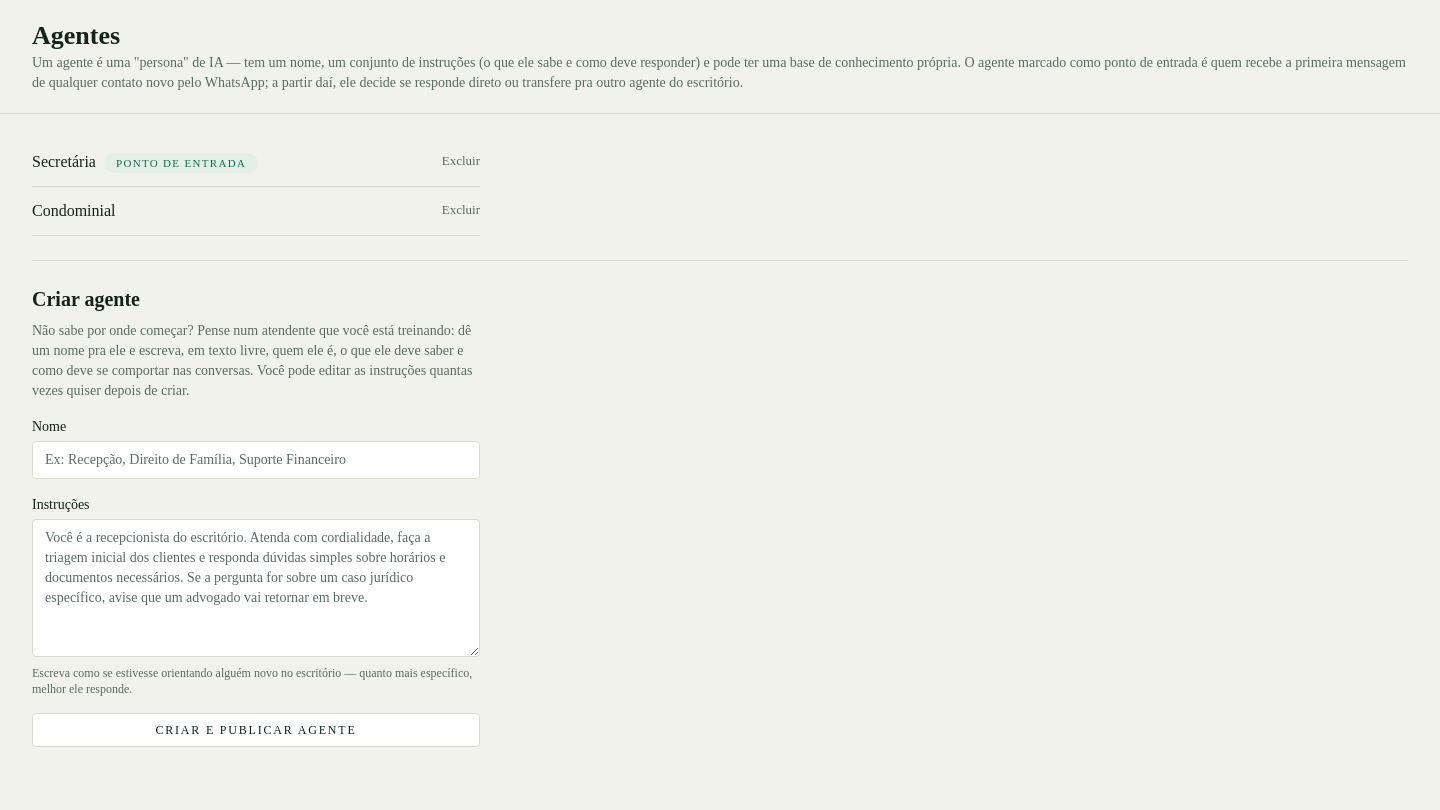
Test: AgentsPanel › exclui um agente após confirmação
This screenshot has width=1440, height=810.
Expected: the link "Secretária" is shown, [32,152,96,170]
Click the button "Excluir" in the row of "Secretária": (461, 161) [442,153,480,170]
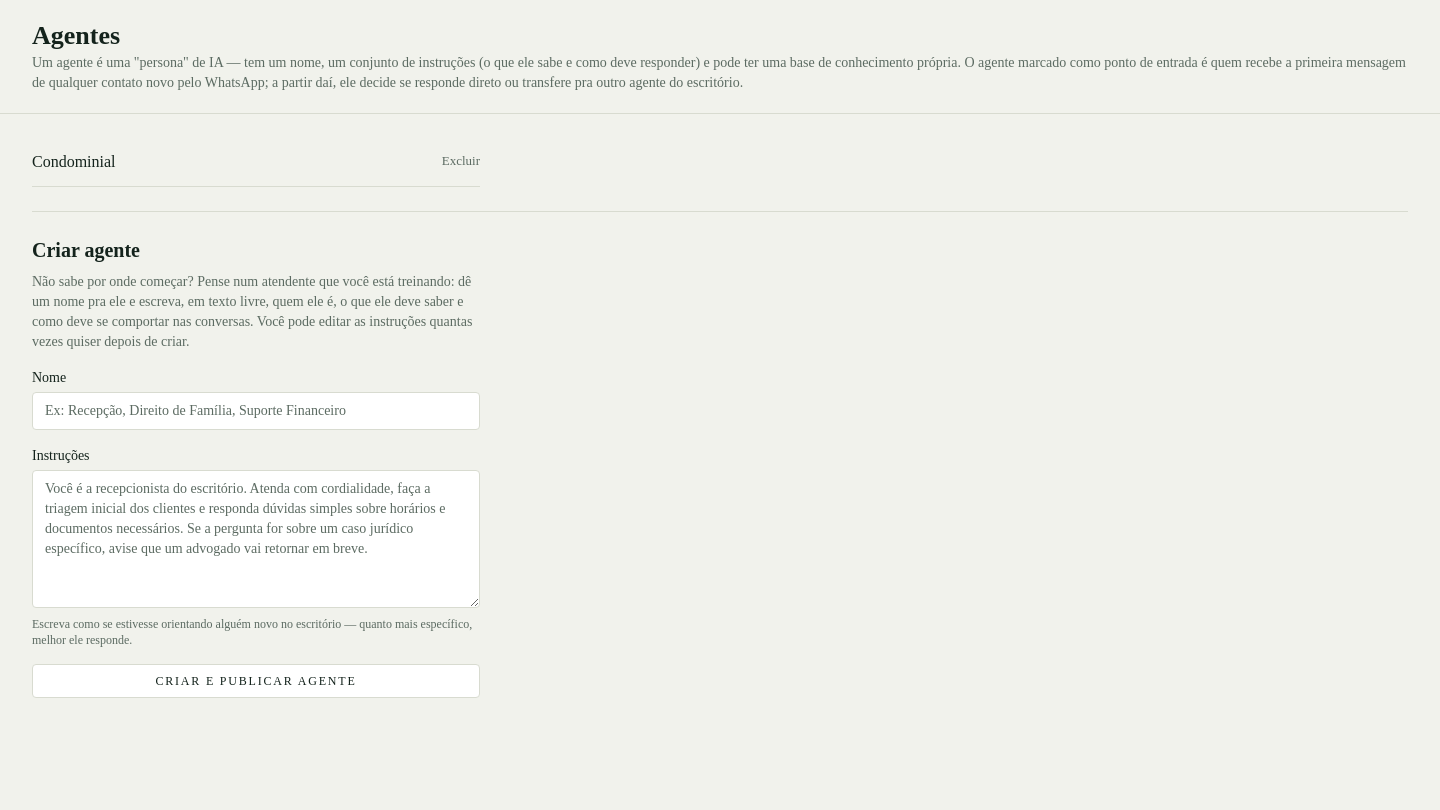
Result: the link "Secretária" is gone
